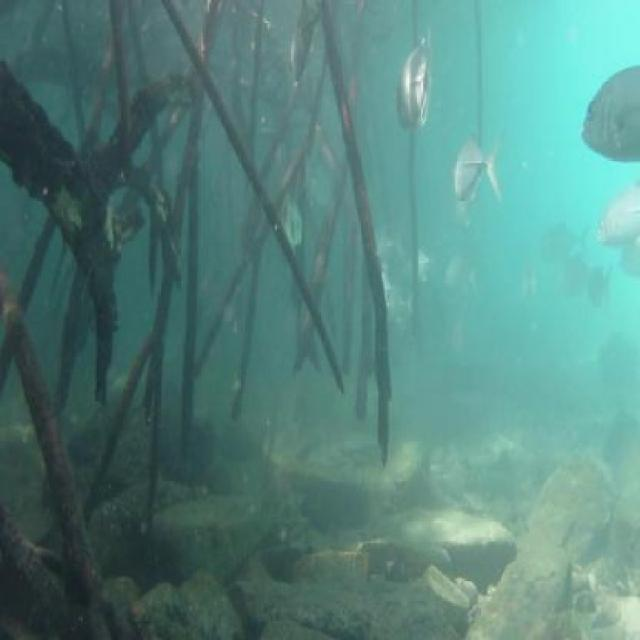Caranx_sexfasciatus_juvenile: (578, 51, 640, 171), (452, 125, 513, 223), (388, 25, 438, 140), (598, 169, 640, 269), (288, 5, 324, 97), (298, 136, 338, 216), (534, 210, 588, 268), (278, 188, 314, 264), (378, 283, 418, 335), (550, 247, 588, 299), (578, 264, 614, 316), (438, 245, 472, 300), (512, 248, 537, 320), (403, 236, 435, 290), (371, 219, 398, 272), (618, 236, 640, 298)
